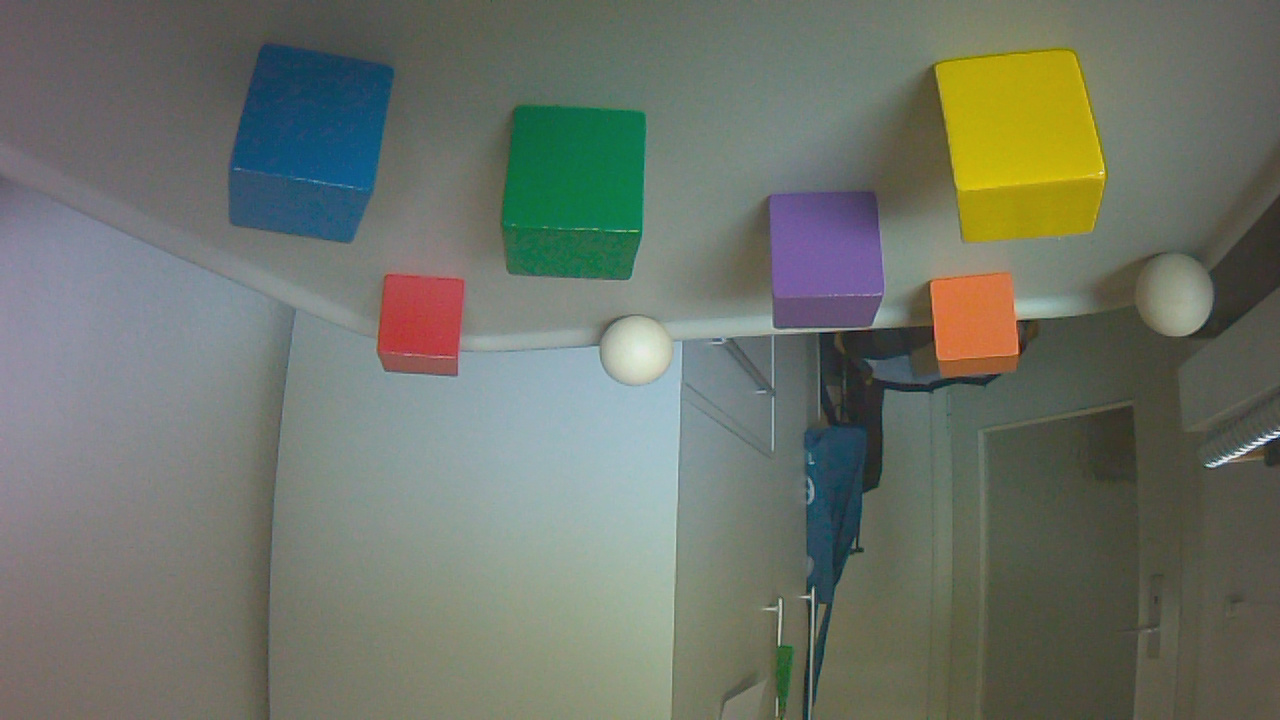ball: (1134, 253, 1221, 345), (601, 317, 679, 393)
cube_blue: (230, 45, 402, 252)
cube_green: (503, 105, 655, 289)
cube_orange: (932, 275, 1027, 385)
cube_purple: (769, 193, 892, 337)
cube_red: (379, 276, 473, 383)
cube_yellow: (936, 53, 1113, 248)
